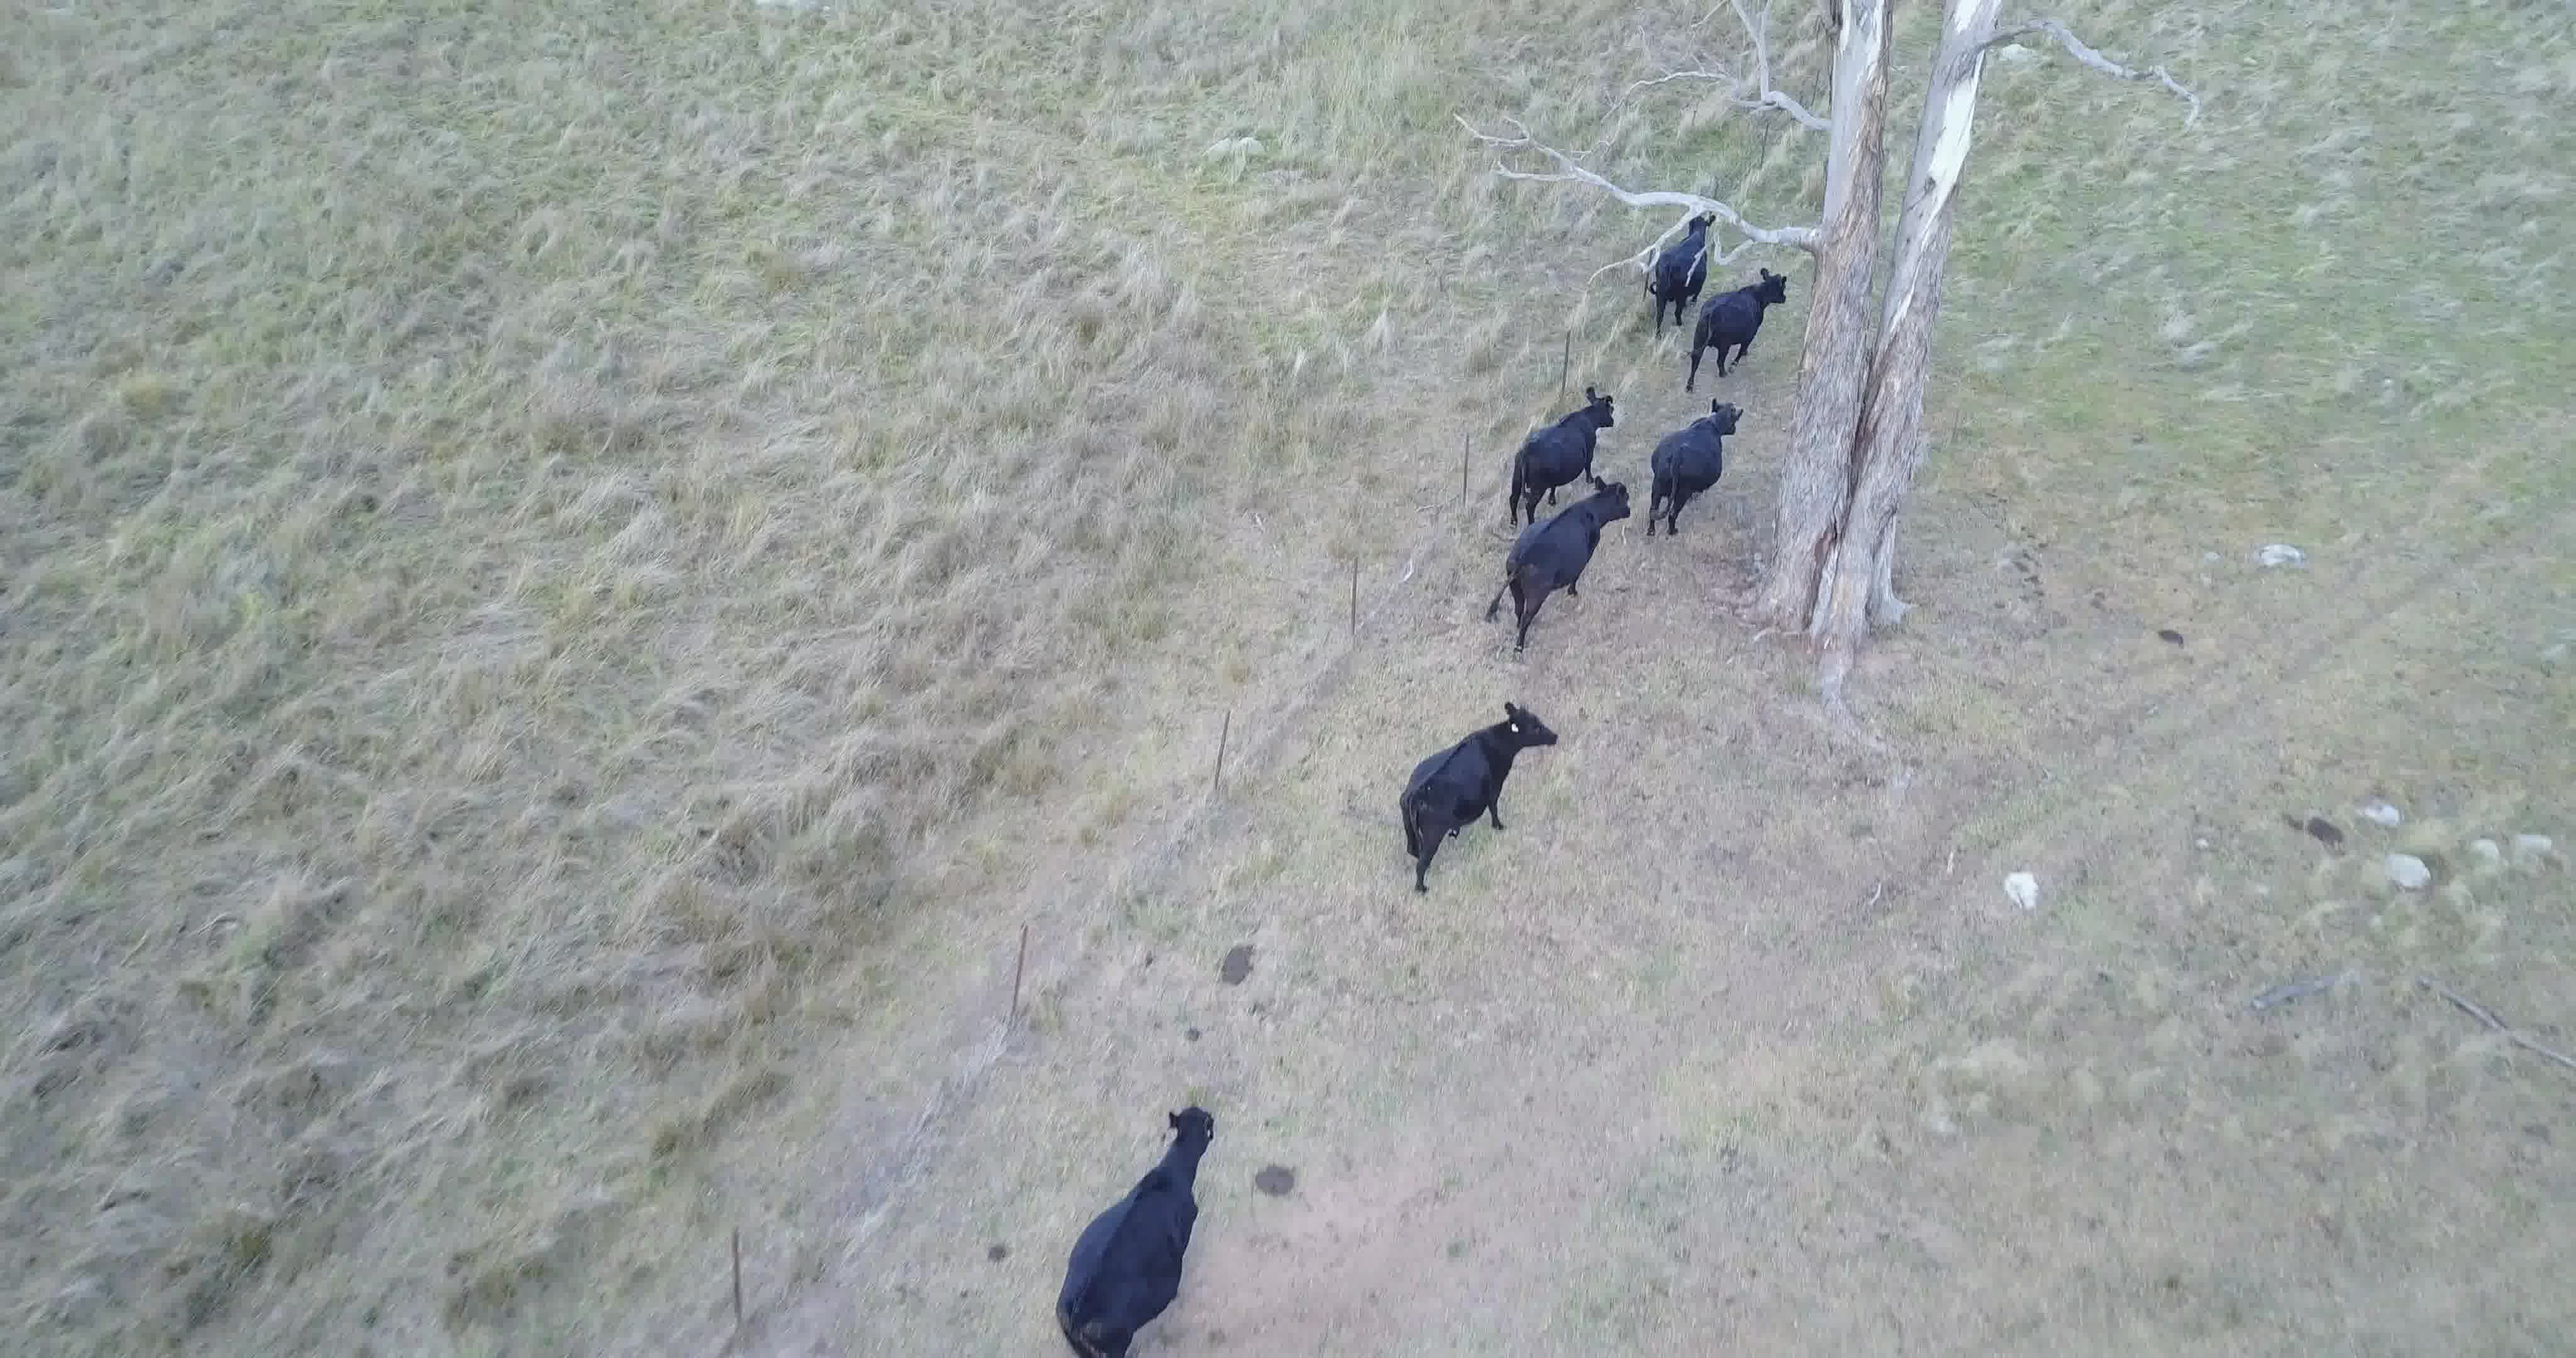cattle: (1038, 1099, 1228, 1358), (1389, 695, 1562, 906), (1479, 474, 1632, 665), (1644, 394, 1746, 547), (1503, 385, 1619, 518), (1685, 259, 1789, 394), (1649, 204, 1716, 332)
